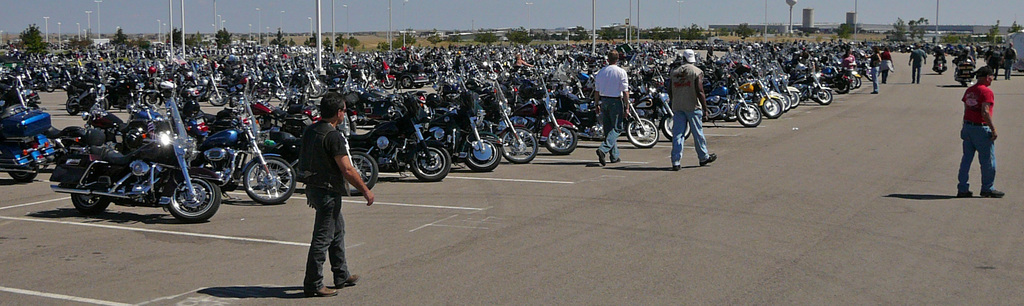Motorcycle: (0, 42, 885, 226), (54, 113, 208, 215)
